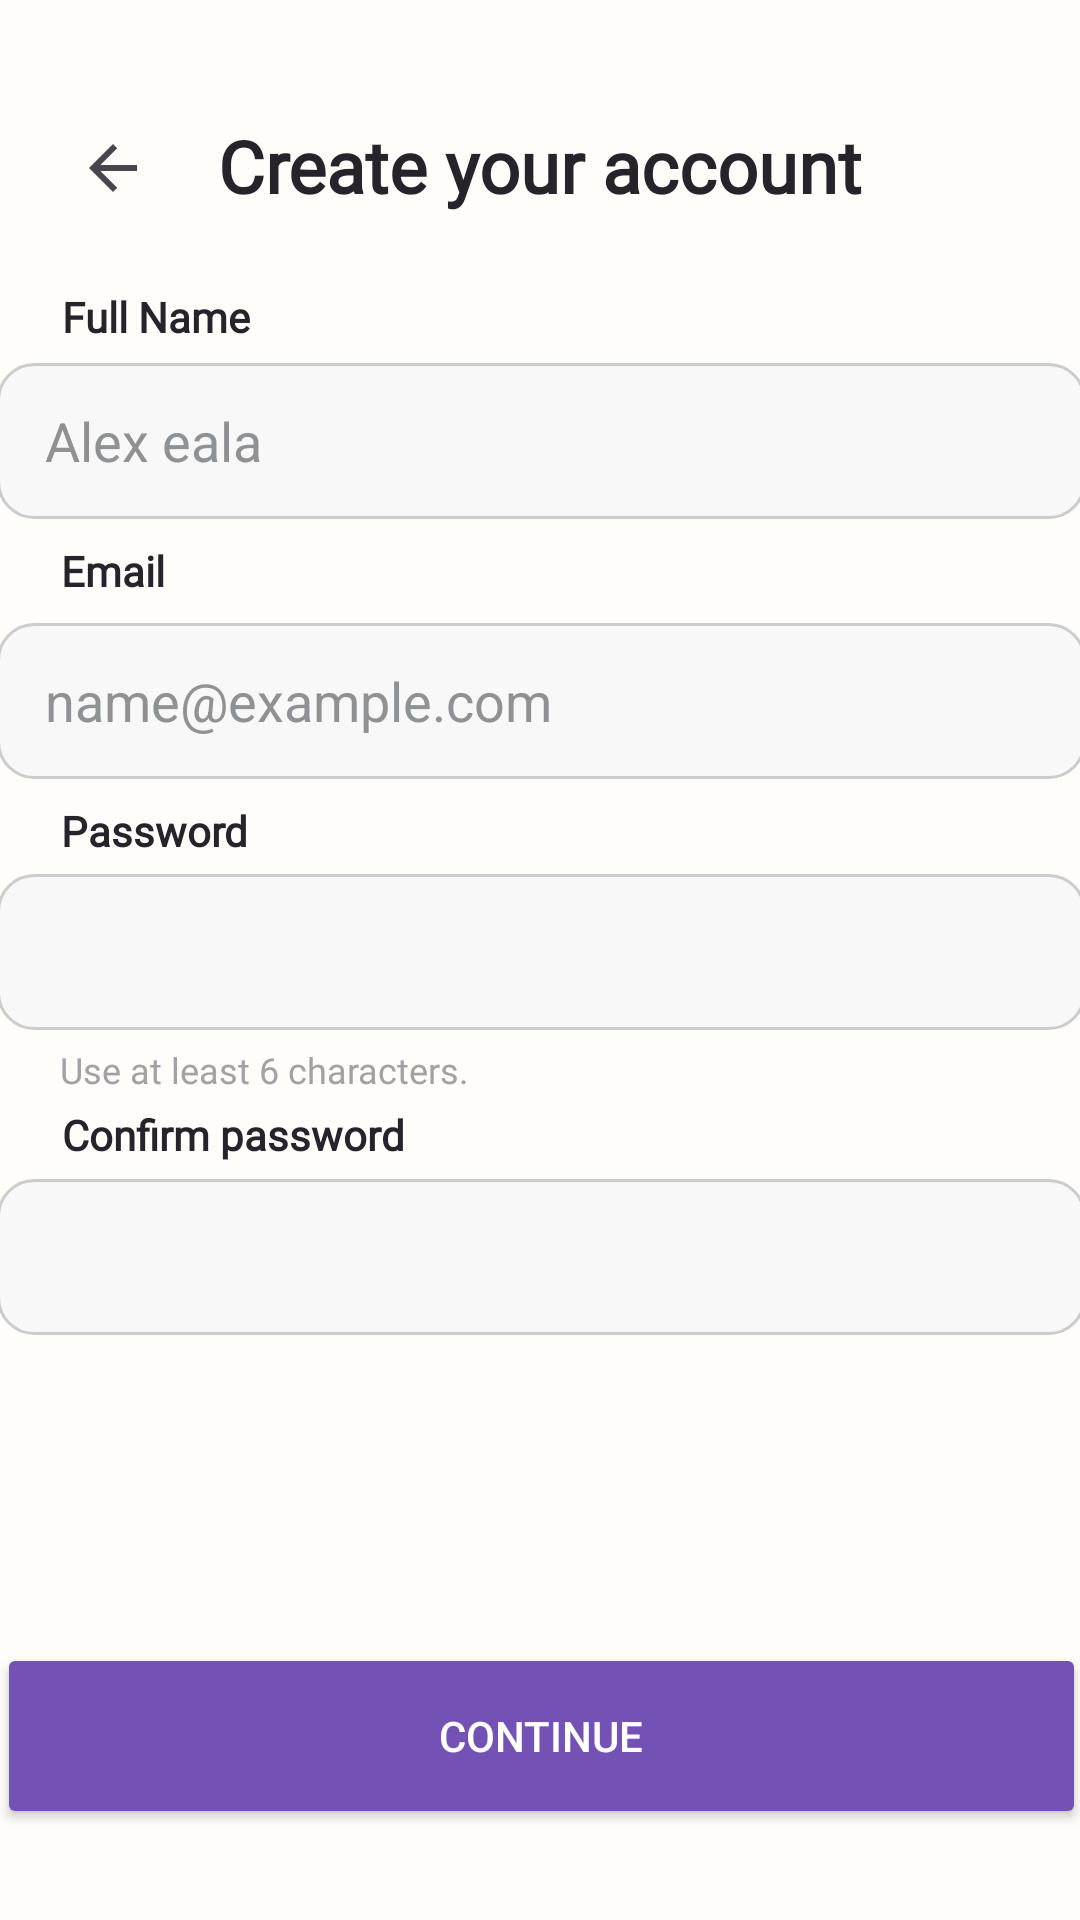

Icons on this 1080px×1920px Android screen, each with the point to tap as (x=x, y=y):
Back: (x=113, y=168)
